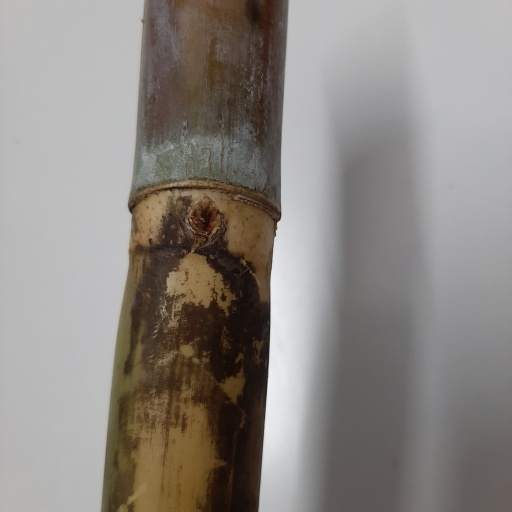Damage_Bud: (187, 194, 221, 238)
